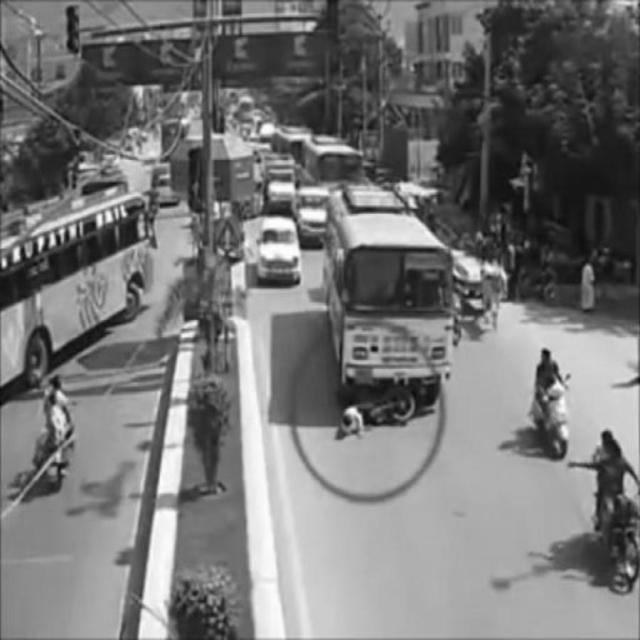accident: (324, 189, 455, 441)
vehicle: (4, 180, 155, 388), (594, 430, 640, 584), (531, 347, 571, 457), (41, 370, 77, 490), (258, 218, 304, 291)
